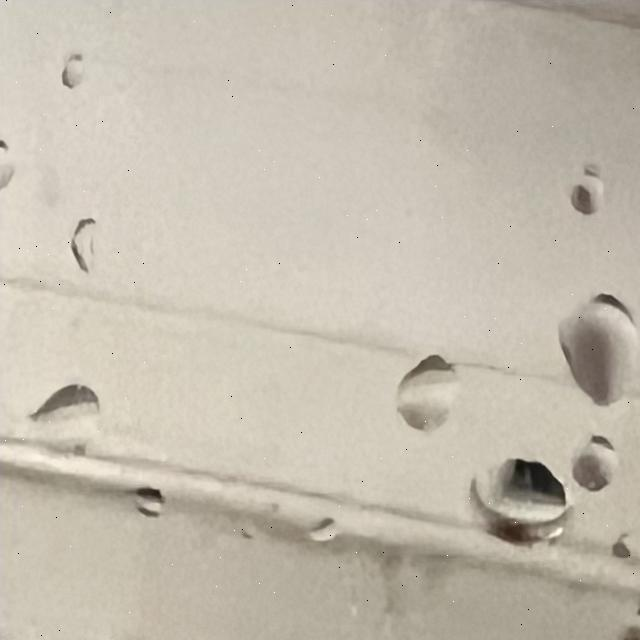raindrop: (545, 298, 637, 416), (456, 461, 564, 547), (374, 340, 458, 428), (27, 376, 105, 453), (563, 430, 626, 493), (126, 462, 170, 520), (564, 168, 605, 227), (68, 215, 100, 276), (57, 52, 85, 96), (310, 513, 339, 538)
